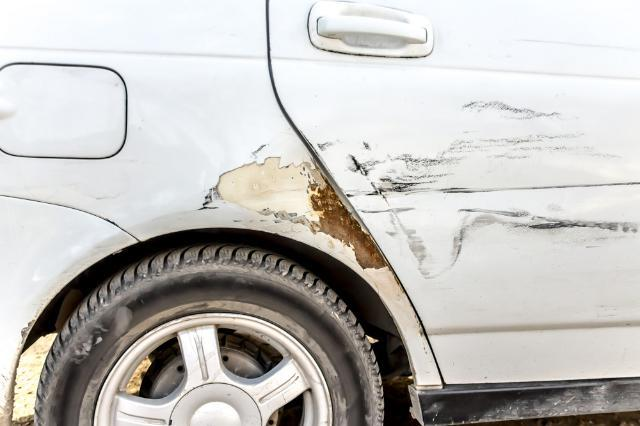scratch: (314, 97, 640, 285), (197, 145, 389, 280)
